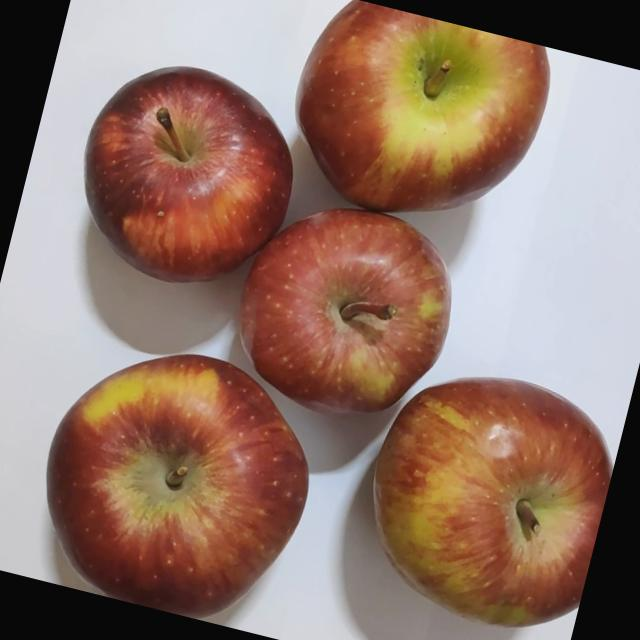apple: (12, 328, 333, 638), (323, 349, 627, 640), (252, 0, 556, 264), (44, 51, 313, 328), (198, 186, 472, 456)
